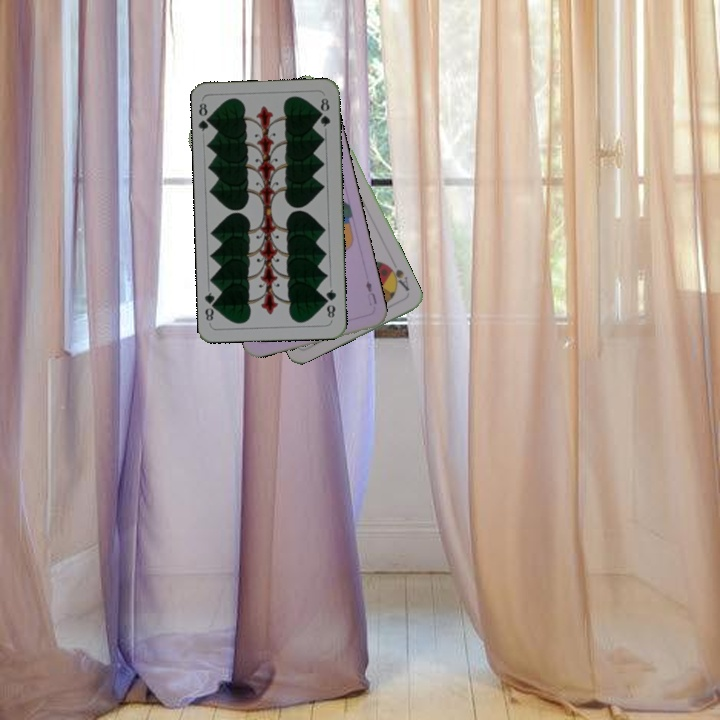EU: (361, 277, 379, 308)
G8: (195, 99, 215, 134), (321, 285, 339, 320)
SA: (383, 261, 412, 294)
